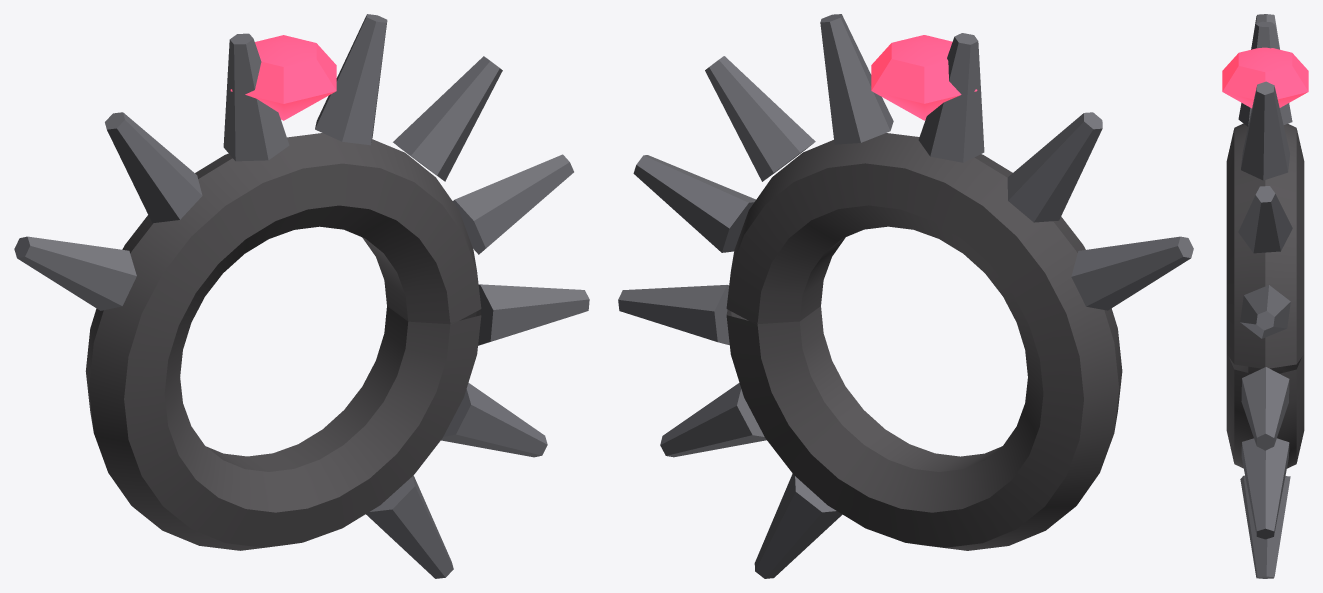
The model's file is tc_dread_command_signet.glb.
The picture shows the model from 3 angles, left to right: view 1: azimuth 30°, elevation 25°; view 2: azimuth 150°, elevation 25°; view 3: azimuth 270°, elevation 25°; orthographic projection. The views are drawn at different scales.
Parts seen in each view (by area): view 1: tc_dread_command_signet; view 2: tc_dread_command_signet; view 3: tc_dread_command_signet.
Boxes of the visible parts, <box> form: tc_dread_command_signet: <box>14,14,589,578</box>; tc_dread_command_signet: <box>618,14,1193,578</box>; tc_dread_command_signet: <box>1222,14,1308,578</box>.
Size of the model in its own units: 0.0429 by 0.0424 by 0.00693.
